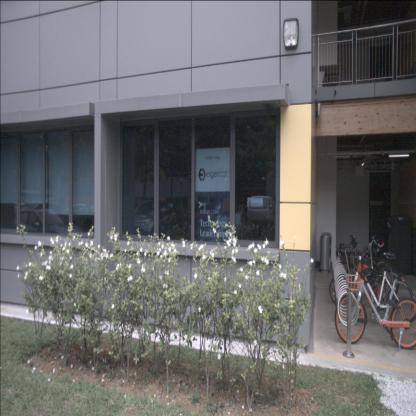vehicle-car: (6, 206, 82, 256), (128, 198, 178, 242), (245, 195, 275, 232)
